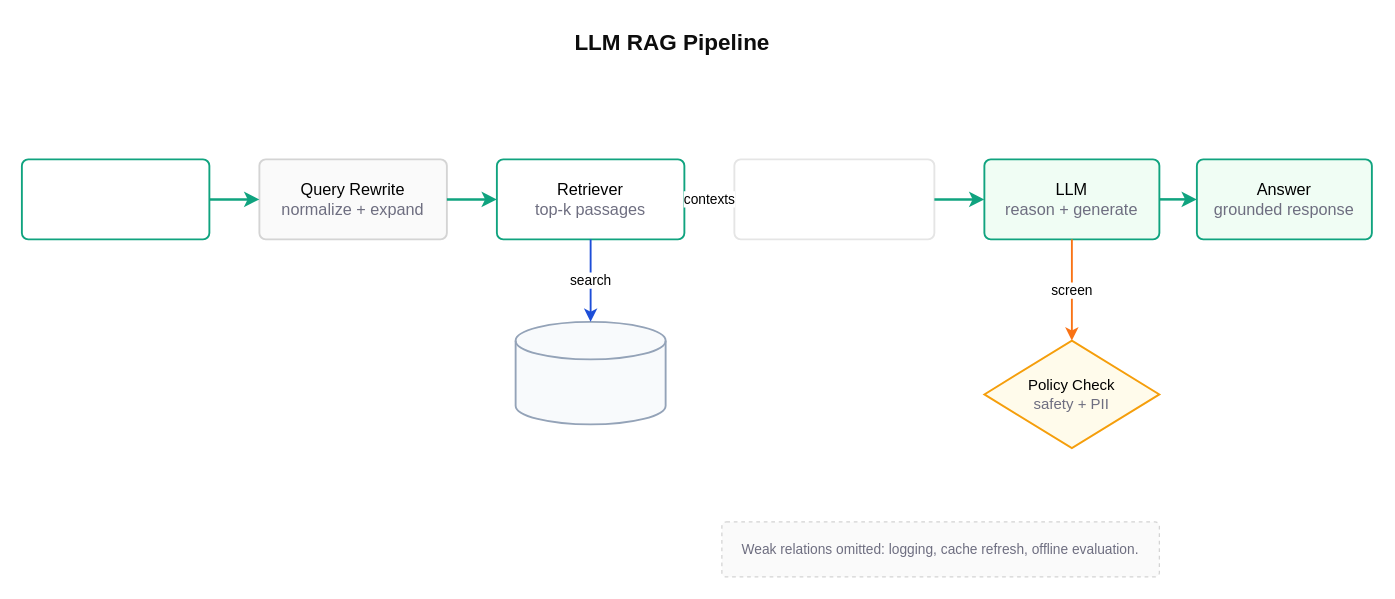
Some shapes in this 1395 by 599 pixel diagram are drawn without their labels. Here are the shapes that lost their labels. From the top down, the centre of each, then its label:
At (x=115, y=199): "User Query intent + context".
At (x=834, y=199): "Prompt Builder citations + constraints".
At (x=590, y=372): "Vector Store embeddings + metadata".
